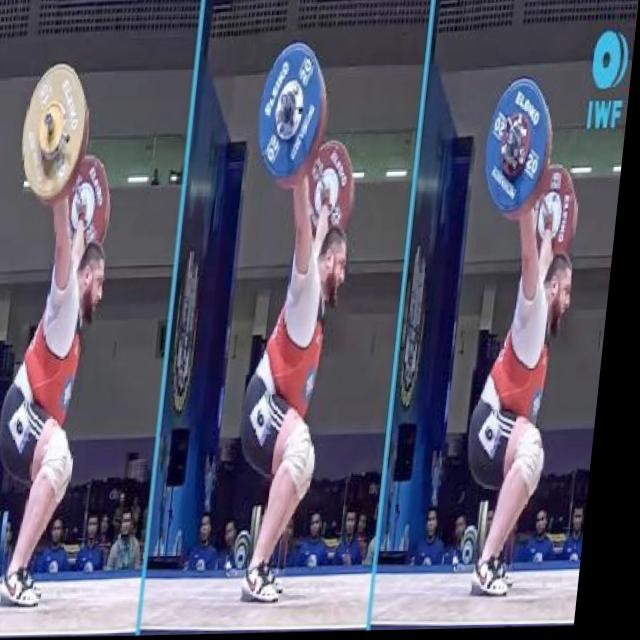barbell: (254, 42, 335, 182), (19, 61, 98, 203), (484, 80, 559, 219)
